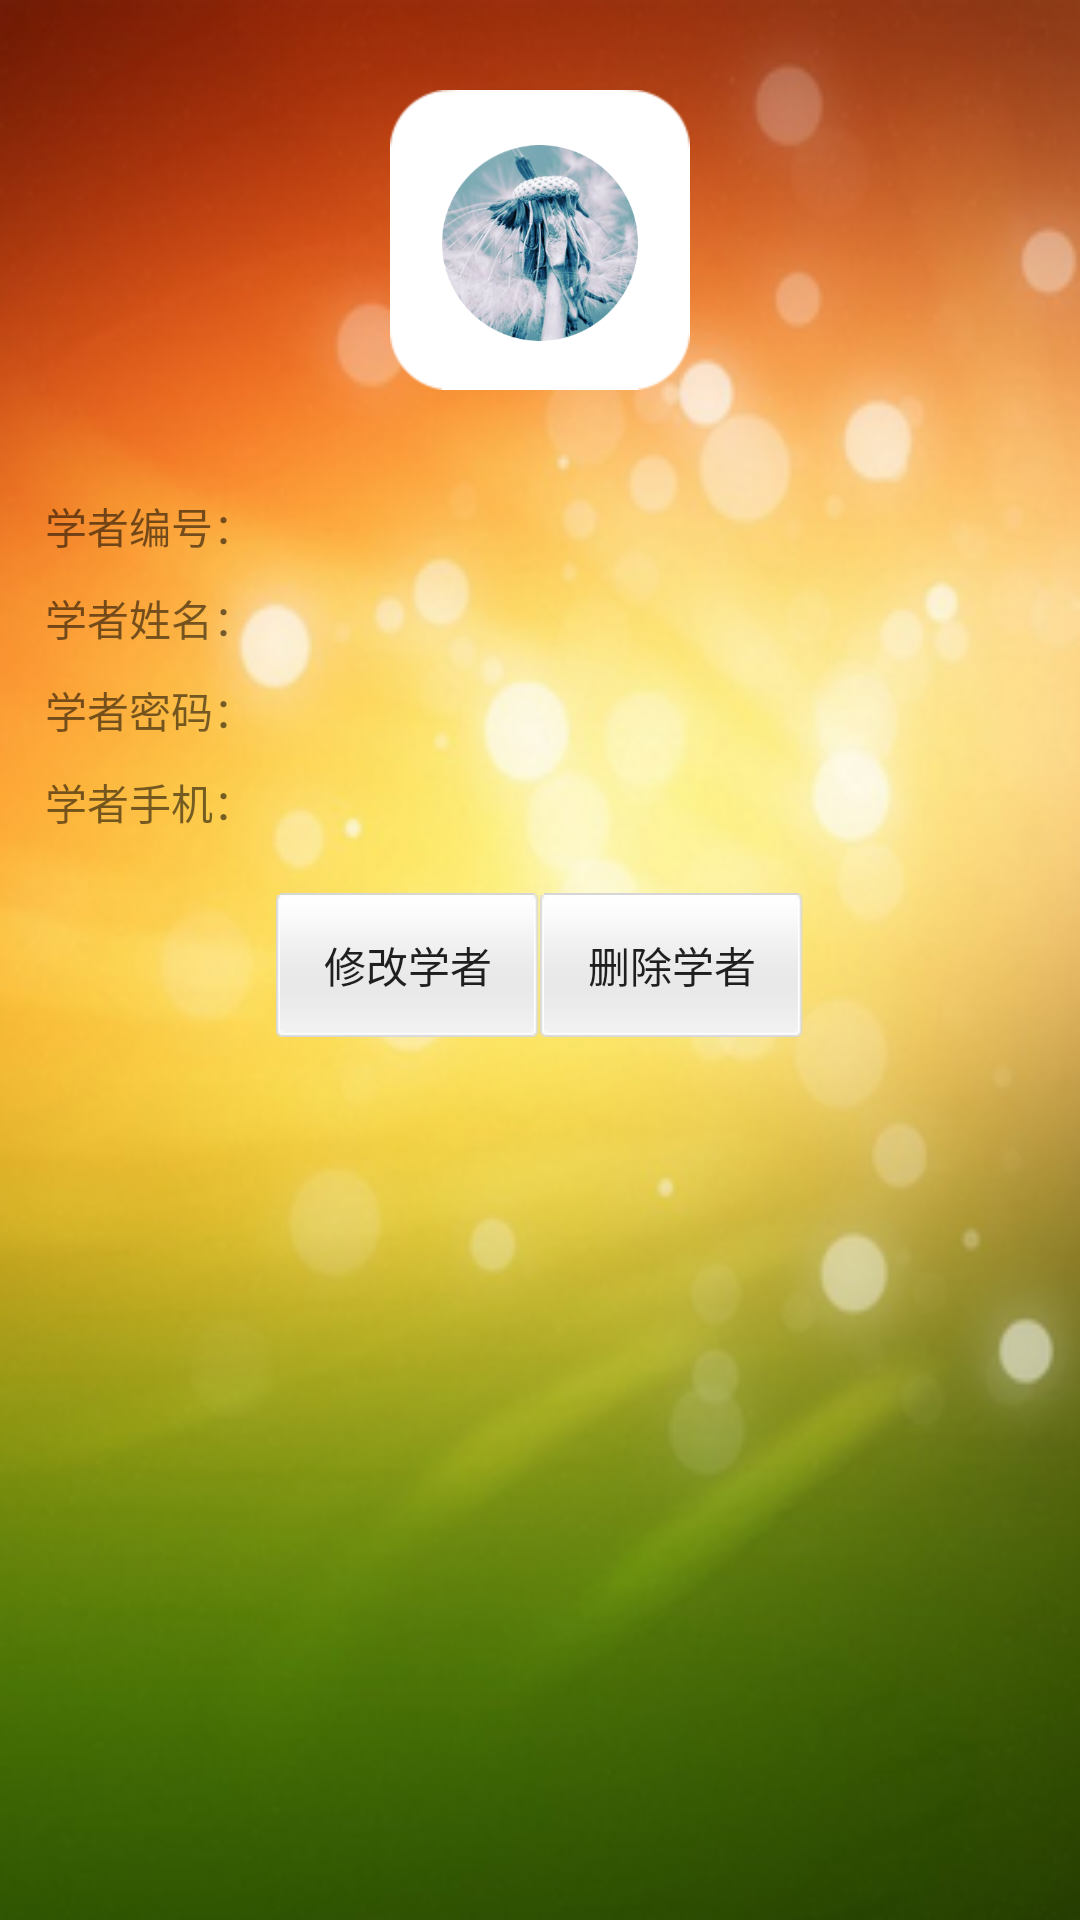

Where to tap for icons on this 1080px×1920px app screen, as (x,y):
head: (540,240)
